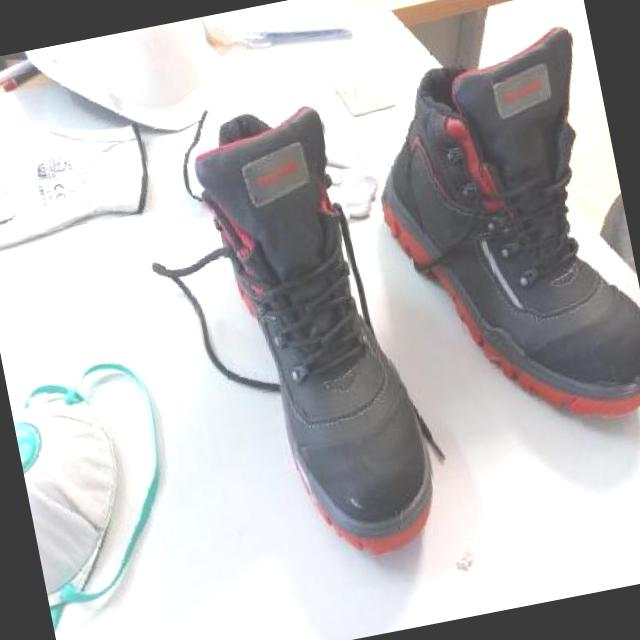boots: (182, 87, 452, 584), (355, 21, 640, 460)
helmet: (22, 14, 236, 155)
